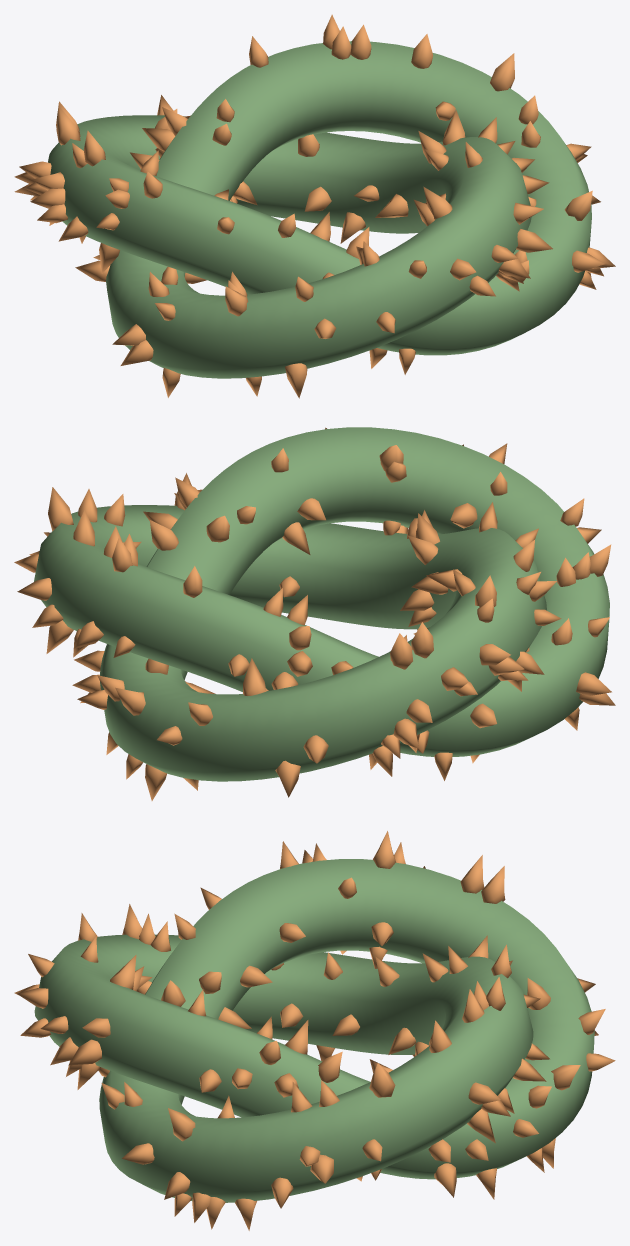
The model's file is Ciernie4.fbx.
The picture shows the model from 3 angles, top to bottom: view 1: azimuth 30°, elevation 25°; view 2: azimuth 150°, elevation 25°; view 3: azimuth 270°, elevation 25°; orthographic projection. The views are drawn at different scales.
Parts seen in each view (by area): view 1: Ciernie4; view 2: Ciernie4; view 3: Ciernie4.
Boxes of the visible parts, x1,y1,x2,y2 form: Ciernie4: (14, 14, 615, 398); Ciernie4: (14, 427, 615, 800); Ciernie4: (14, 831, 615, 1230).
Bounding box in the file's own units: 8.46 × 3.41 × 8.39.
